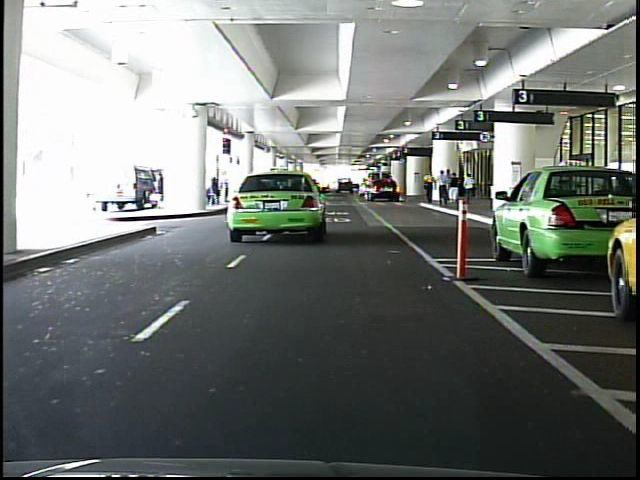person: (462, 169, 480, 210), (422, 168, 438, 209), (438, 165, 452, 209), (448, 172, 461, 212)
